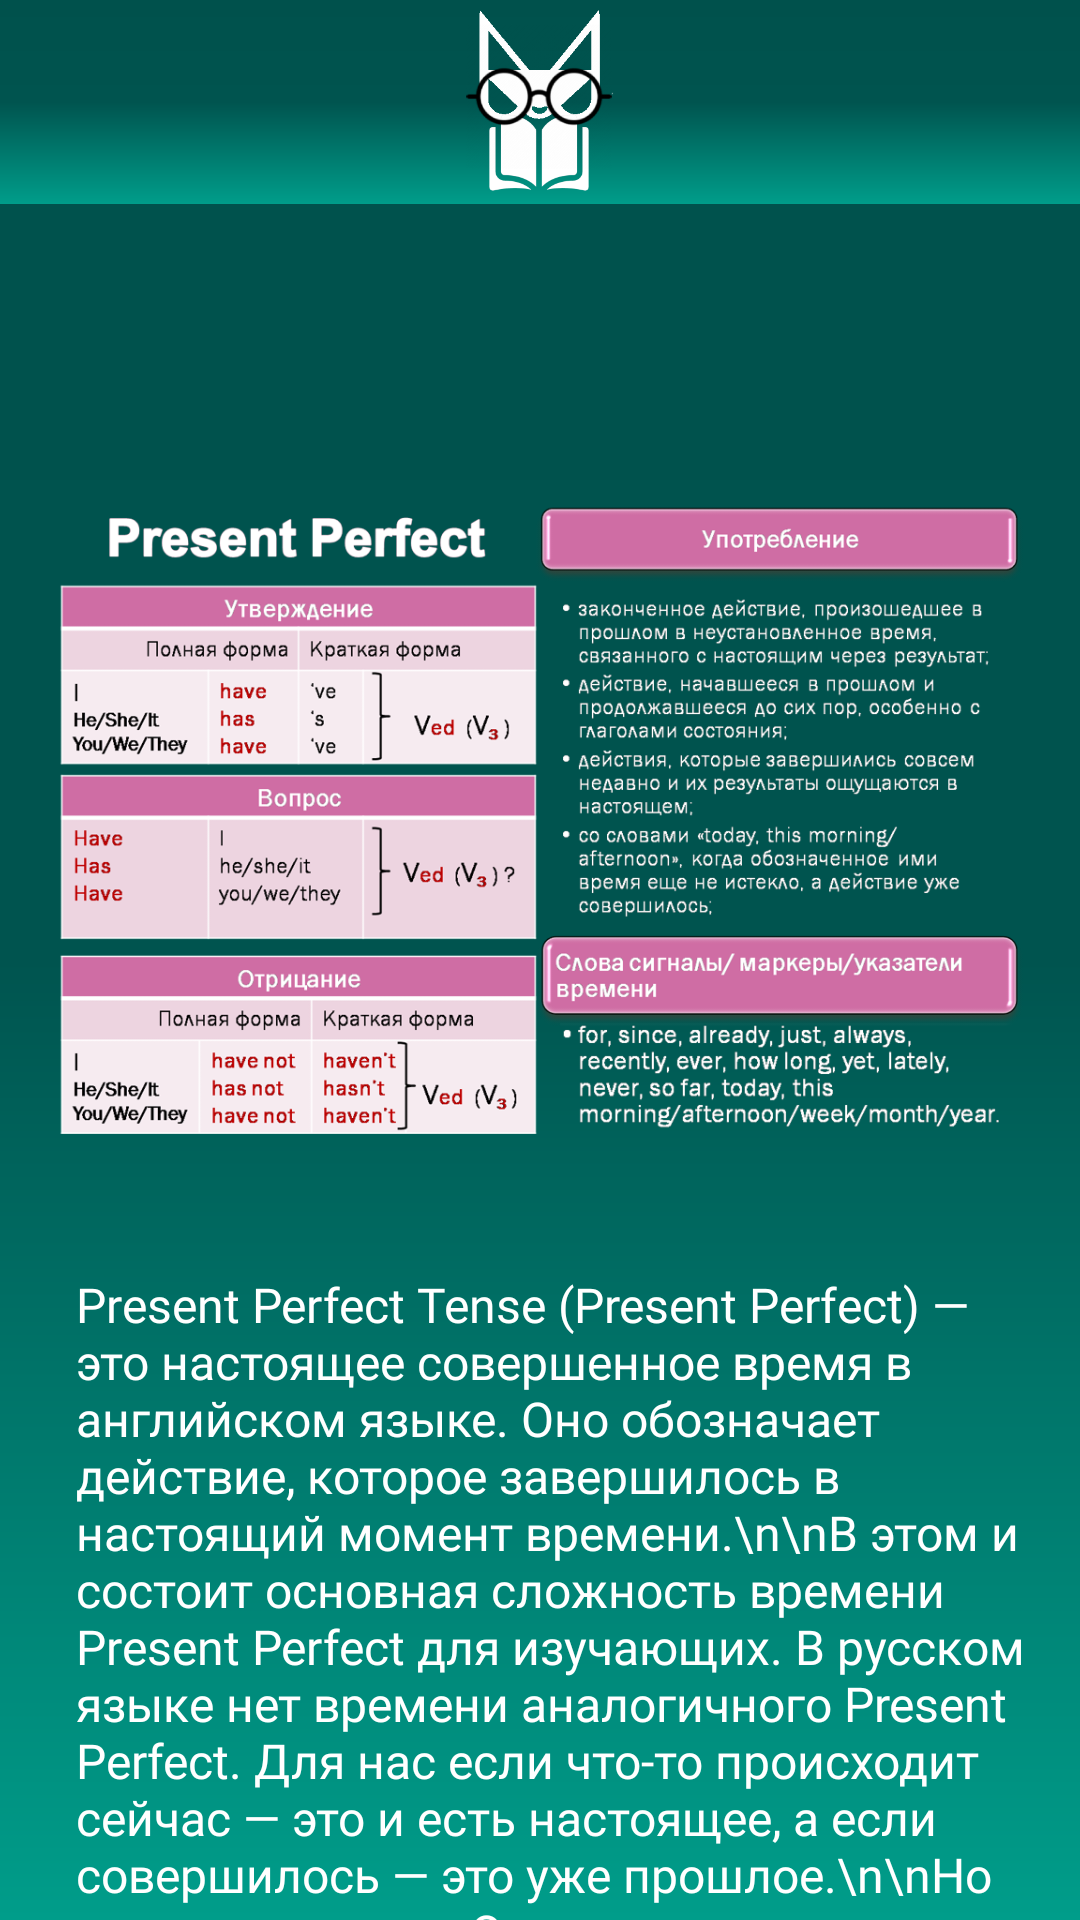

Named icons in this screenshot (1080×1920) and their bounding boxes, Rect(x1, y1, x2, y2):
reading cat: Rect(422, 10, 659, 204)
